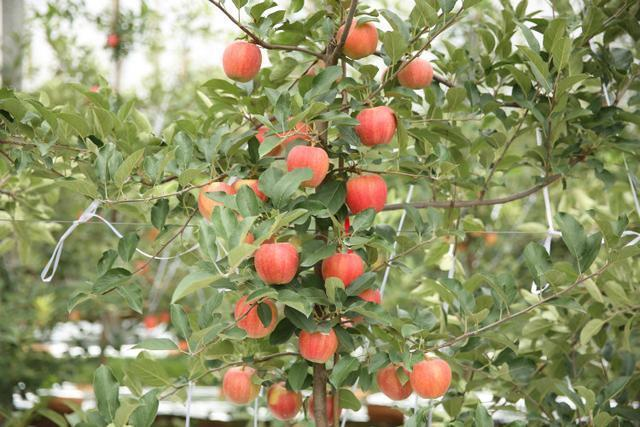apple: (252, 239, 299, 285), (284, 143, 329, 189), (410, 356, 451, 399), (353, 106, 397, 146), (343, 174, 386, 214), (318, 253, 364, 288), (221, 41, 261, 81), (335, 20, 377, 58), (222, 364, 261, 404), (300, 326, 337, 363), (266, 382, 300, 420), (376, 366, 412, 400), (396, 57, 432, 88)
